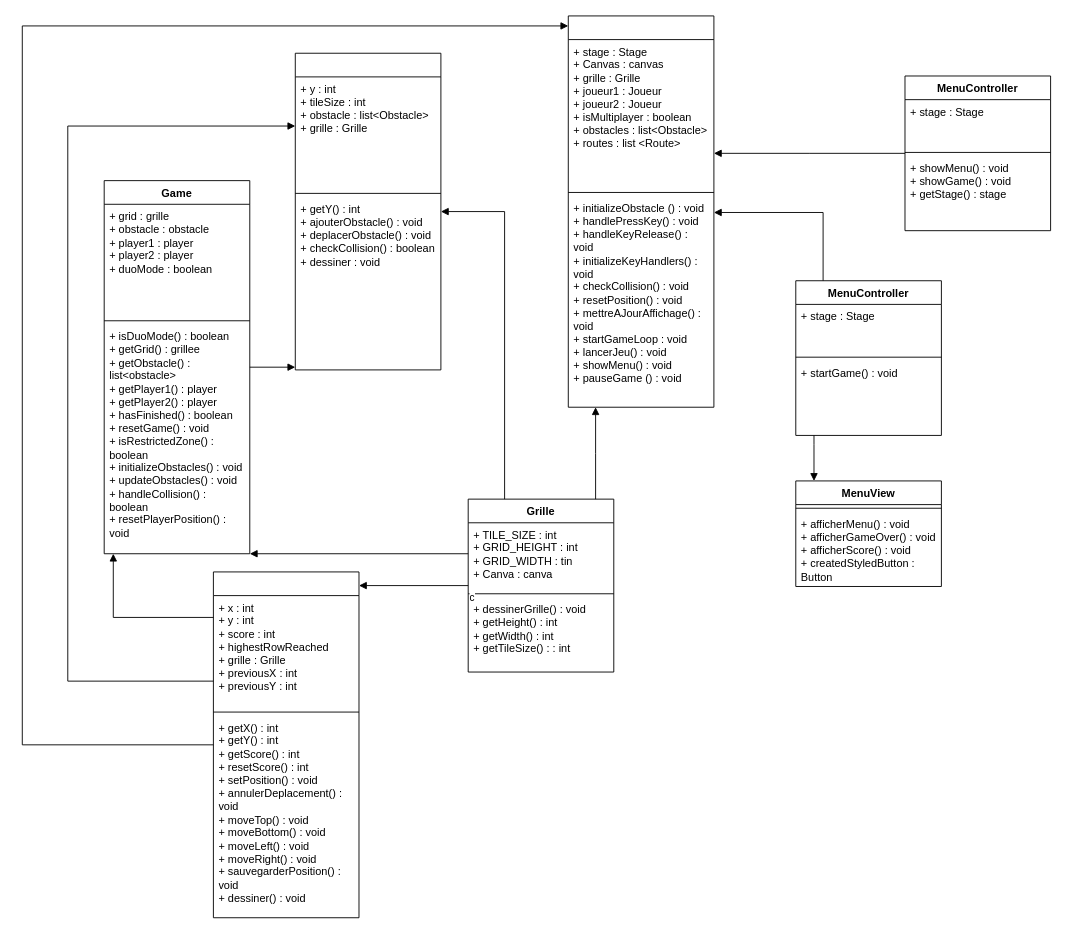
This 1067x936 diagram has some shape labels left out. Here are the shapes that lost their labels. From the top down, the box of each, then its label:
(294, 52, 441, 370): Route
(567, 15, 714, 407): GameController
(212, 571, 359, 918): Player
